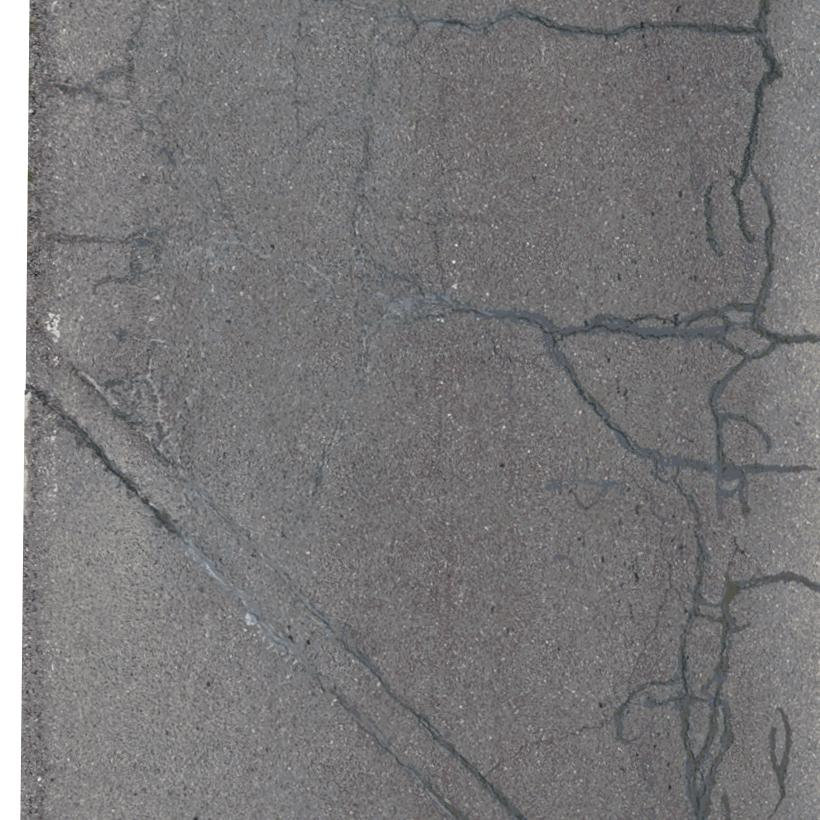GRIETA: (335, 637, 525, 819), (26, 383, 200, 553), (183, 480, 336, 634), (315, 669, 467, 818), (732, 0, 781, 242), (458, 10, 752, 37), (483, 725, 606, 778), (751, 171, 776, 303), (765, 707, 792, 819), (457, 307, 546, 329), (740, 572, 819, 593), (705, 180, 724, 257), (769, 727, 780, 775), (763, 465, 817, 472), (781, 334, 819, 343)
PIEL DE COCODRILO: (543, 297, 781, 819), (114, 0, 461, 339), (86, 363, 185, 475)
